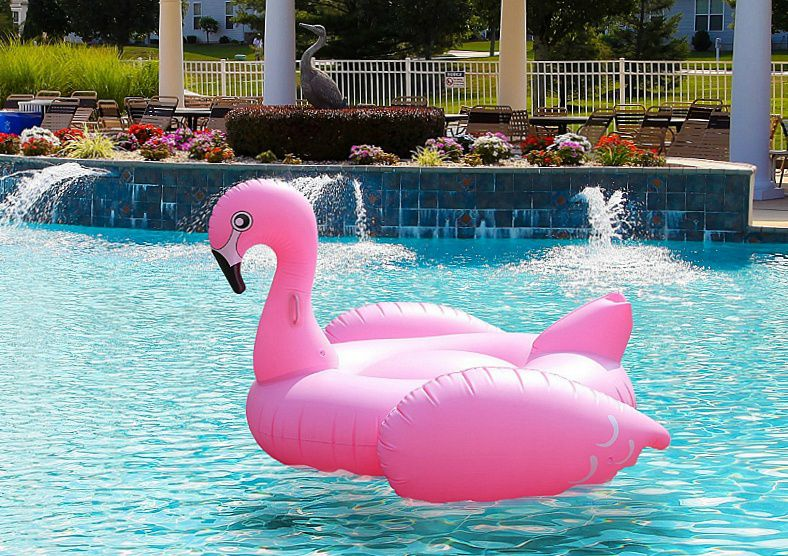Flamingo: (205, 176, 675, 506)
